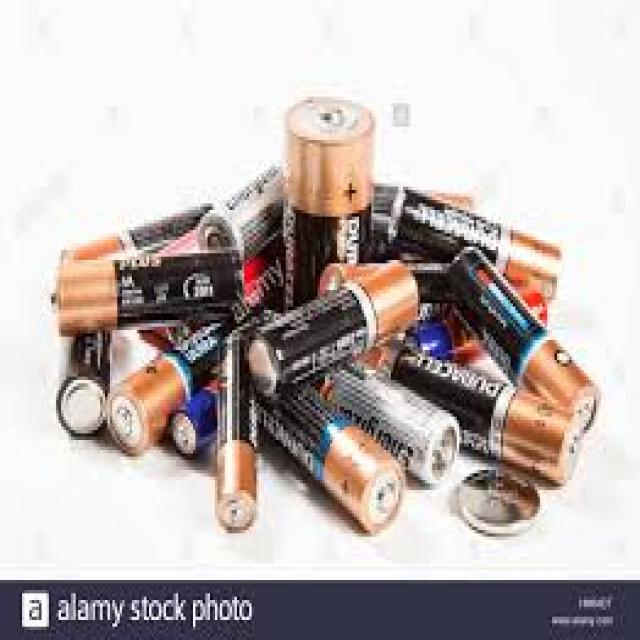non-organic waste: (443, 235, 599, 434), (394, 338, 581, 493), (254, 376, 410, 535), (247, 258, 416, 402), (388, 188, 561, 306), (286, 90, 372, 321), (46, 243, 239, 339), (102, 316, 234, 454), (218, 332, 261, 528)
